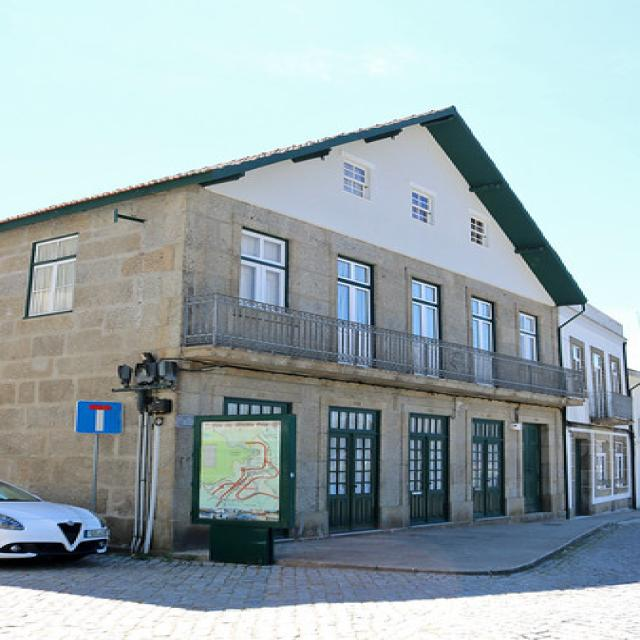building: (2, 101, 640, 565)
